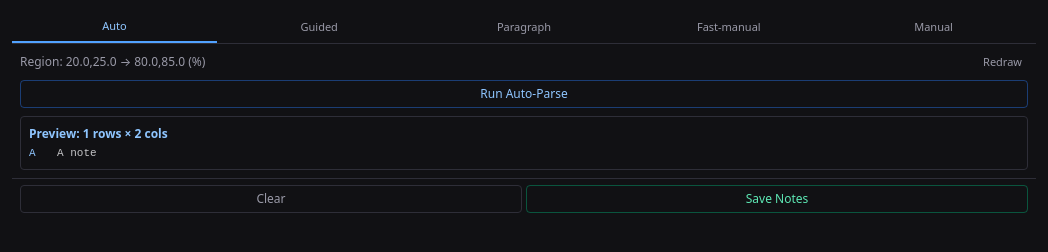
Test: A2d Notes Auto and inherited-save operation authority › allows captured A promotion adoption but cannot reset B or erase B's live error
This screenshot has width=1048, height=252.
Earlier steps of the test are not shown.
Click the button "Run Auto-Parse": {"x": 524, "y": 94} [20,80,1028,108]
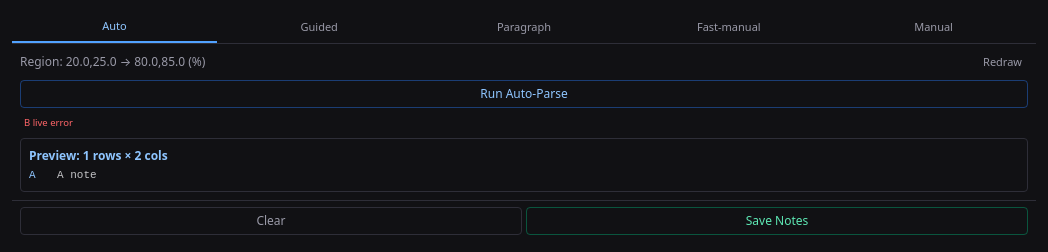
expect the text "B live error" is shown: met, box [24,116,73,129]
